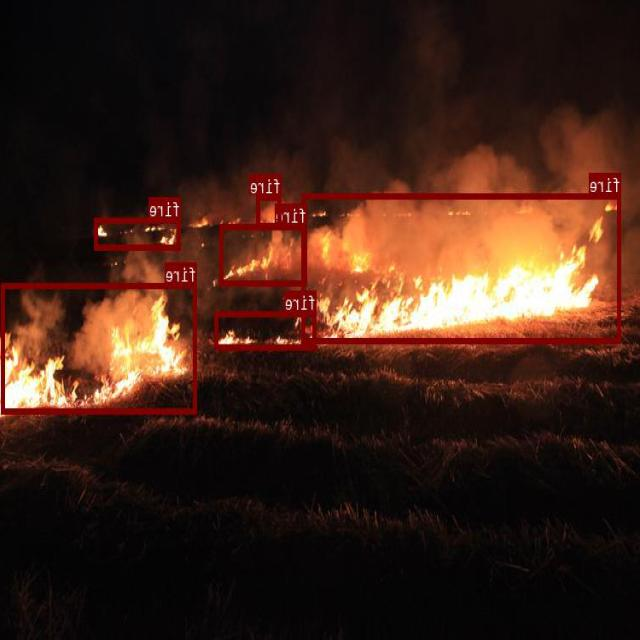fire: (303, 192, 621, 342), (2, 283, 198, 413), (220, 224, 308, 284), (216, 311, 317, 349), (95, 217, 182, 249), (258, 194, 282, 227)
